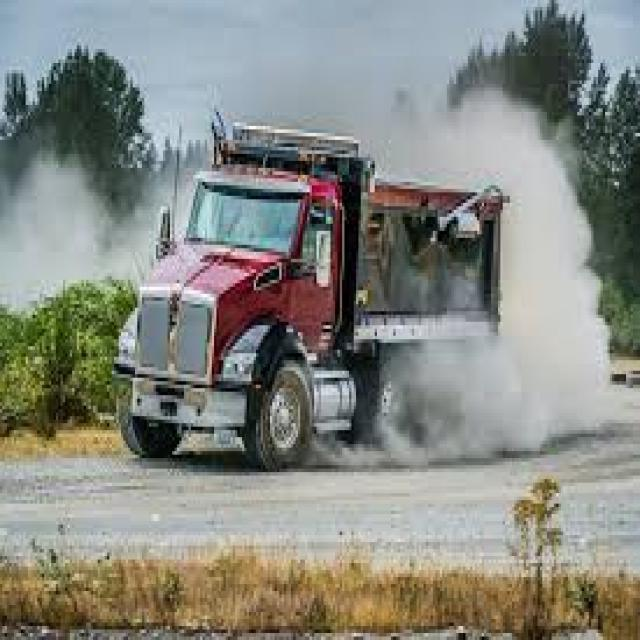Smoke: (372, 84, 628, 458), (2, 150, 149, 301)
